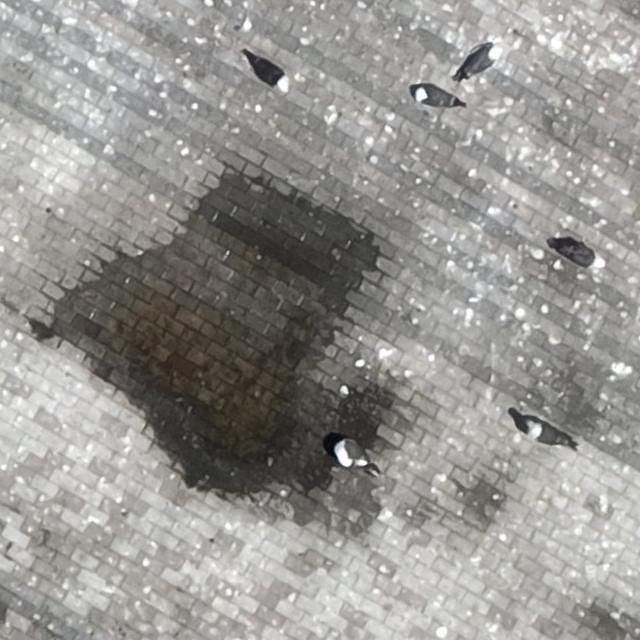umineko: (551, 236, 607, 270), (527, 420, 573, 449), (252, 57, 286, 85), (463, 49, 495, 77), (418, 89, 456, 107), (337, 441, 364, 465)
